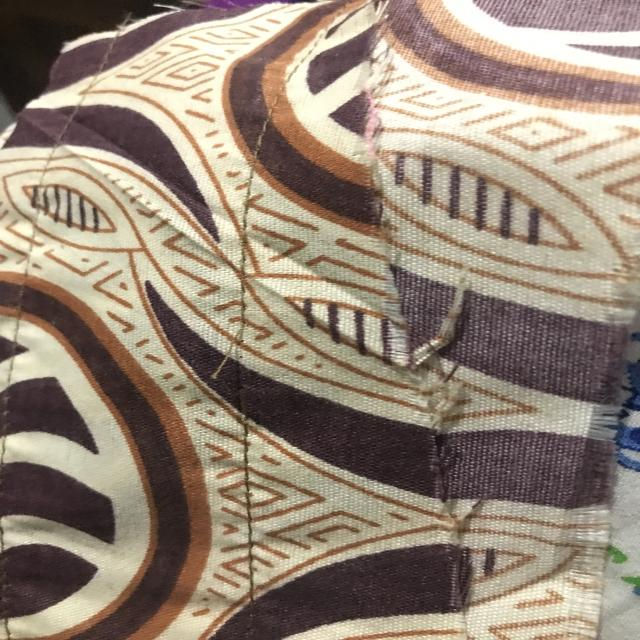broken: (201, 315, 265, 418)
good: (236, 463, 261, 576)
